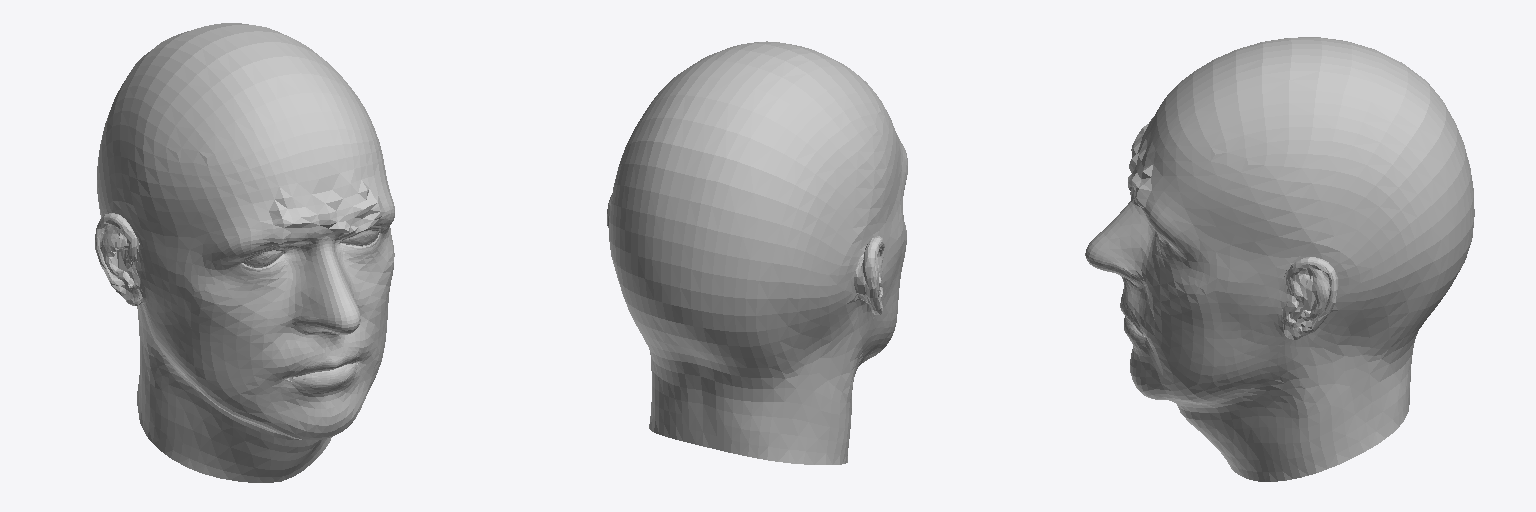
The model's file is MaleFaced13.obj.
3 views of the same model, side by side, from view 1: azimuth 30°, elevation 25°; view 2: azimuth 150°, elevation 25°; view 3: azimuth 270°, elevation 25° (orthographic).
Parts seen in each view (by area): view 1: HeadHires; view 2: HeadHires; view 3: HeadHires.
Boxes of the visible parts, box(x1,y1,x2,y2) form: HeadHires: box(95, 23, 394, 482); HeadHires: box(607, 41, 907, 464); HeadHires: box(1085, 37, 1474, 481).
Size of the model in its own units: 192 by 283 by 241.